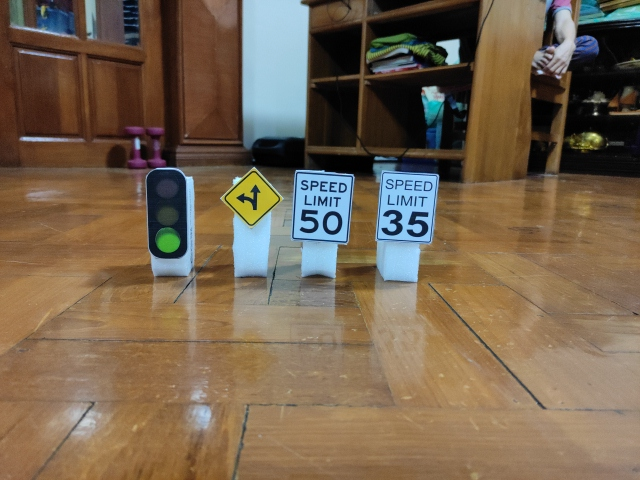Green Traffic Light: (146, 167, 189, 260)
Speed Limit 35: (375, 171, 437, 243)
Speed Limit 50: (291, 170, 354, 243)
Straight Or Left Sign: (221, 169, 283, 226)
